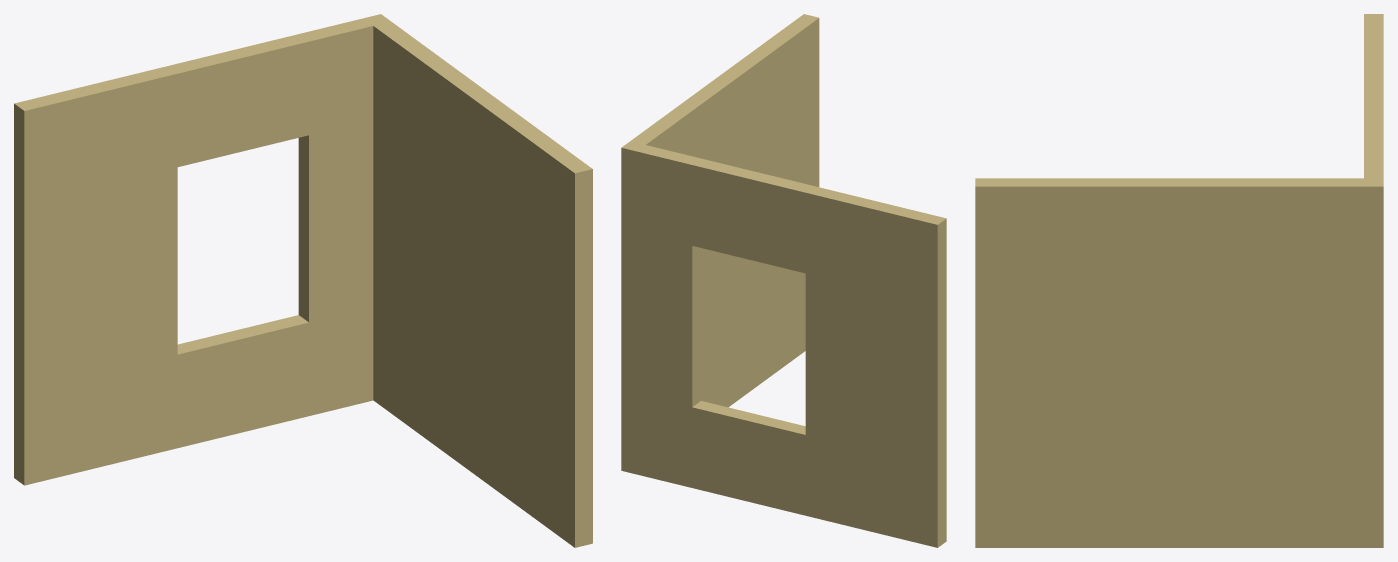
The model's file is Wal_6_Corner_D.fbx.
The picture shows the model from 3 angles, left to right: view 1: azimuth 30°, elevation 25°; view 2: azimuth 150°, elevation 25°; view 3: azimuth 270°, elevation 25°; orthographic projection. The views are drawn at different scales.
Parts seen in each view (by area): view 1: polySurface41; view 2: polySurface41; view 3: polySurface41.
Part boxes in pixels (bbox=[...]): polySurface41: bbox=[14, 14, 592, 547]; polySurface41: bbox=[621, 14, 946, 547]; polySurface41: bbox=[975, 14, 1383, 547].
Size of the model in its own units: 4.1 by 4 by 4.1.
1 material, 1 textured.
